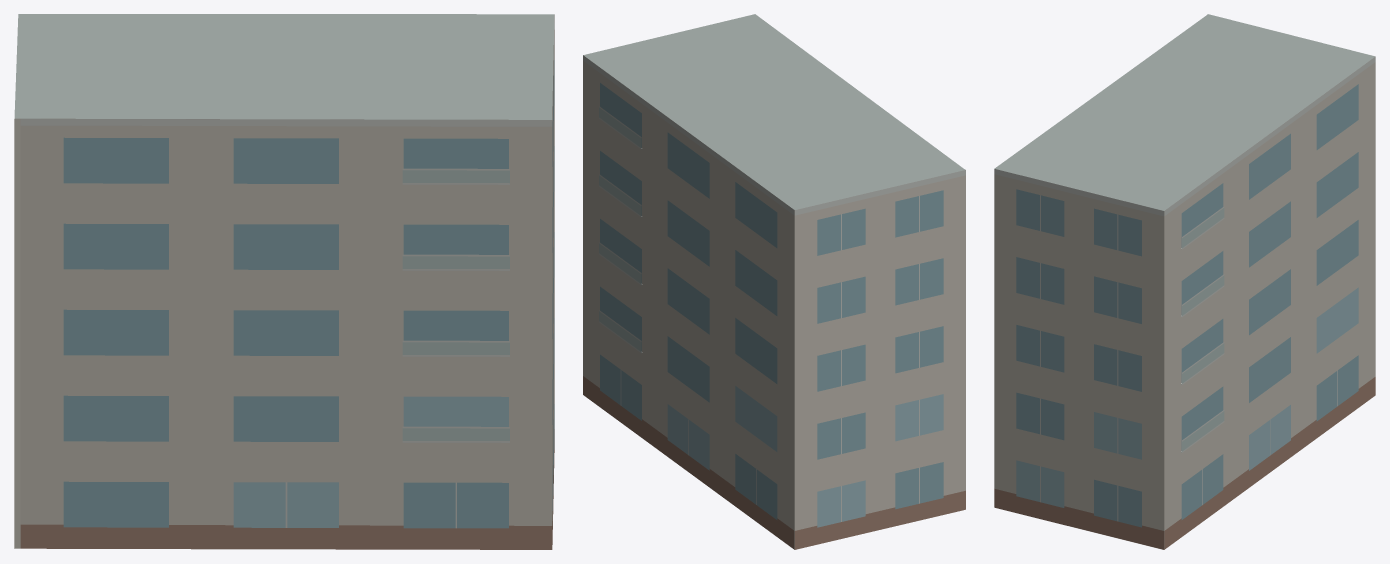
Rendered from survey-upis-32682583.glb.
3 renders of one model, left to right at view 1: azimuth 30°, elevation 25°; view 2: azimuth 150°, elevation 25°; view 3: azimuth 270°, elevation 25°, orthographic. The views are drawn at different scales.
Visible parts, largest first — view 1: survey-upis-32682583.tmp; view 2: survey-upis-32682583.tmp; view 3: survey-upis-32682583.tmp.
Boxes of the visible parts, x1,y1,x2,y2 form: survey-upis-32682583.tmp: (14, 14, 554, 549); survey-upis-32682583.tmp: (583, 14, 965, 549); survey-upis-32682583.tmp: (994, 14, 1375, 549).
Bounding box in the file's own units: 19.02 × 15.25 × 15.56.
